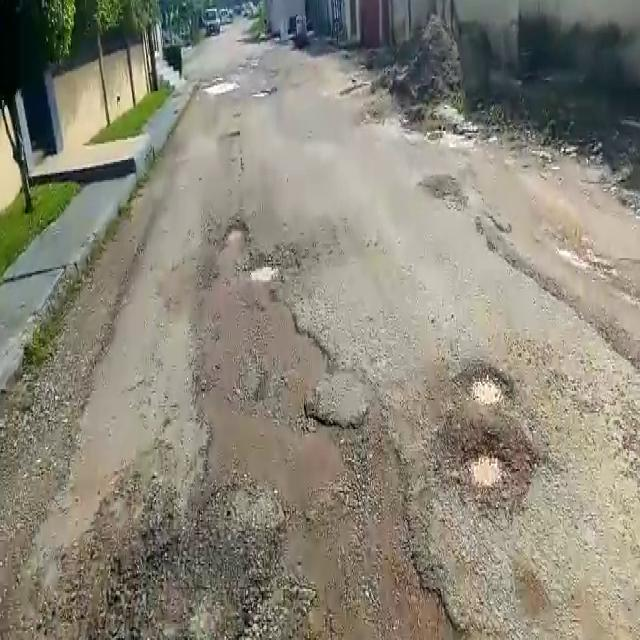Pothole: (452, 430, 520, 502), (458, 362, 512, 408), (246, 262, 282, 282), (224, 219, 247, 246)
